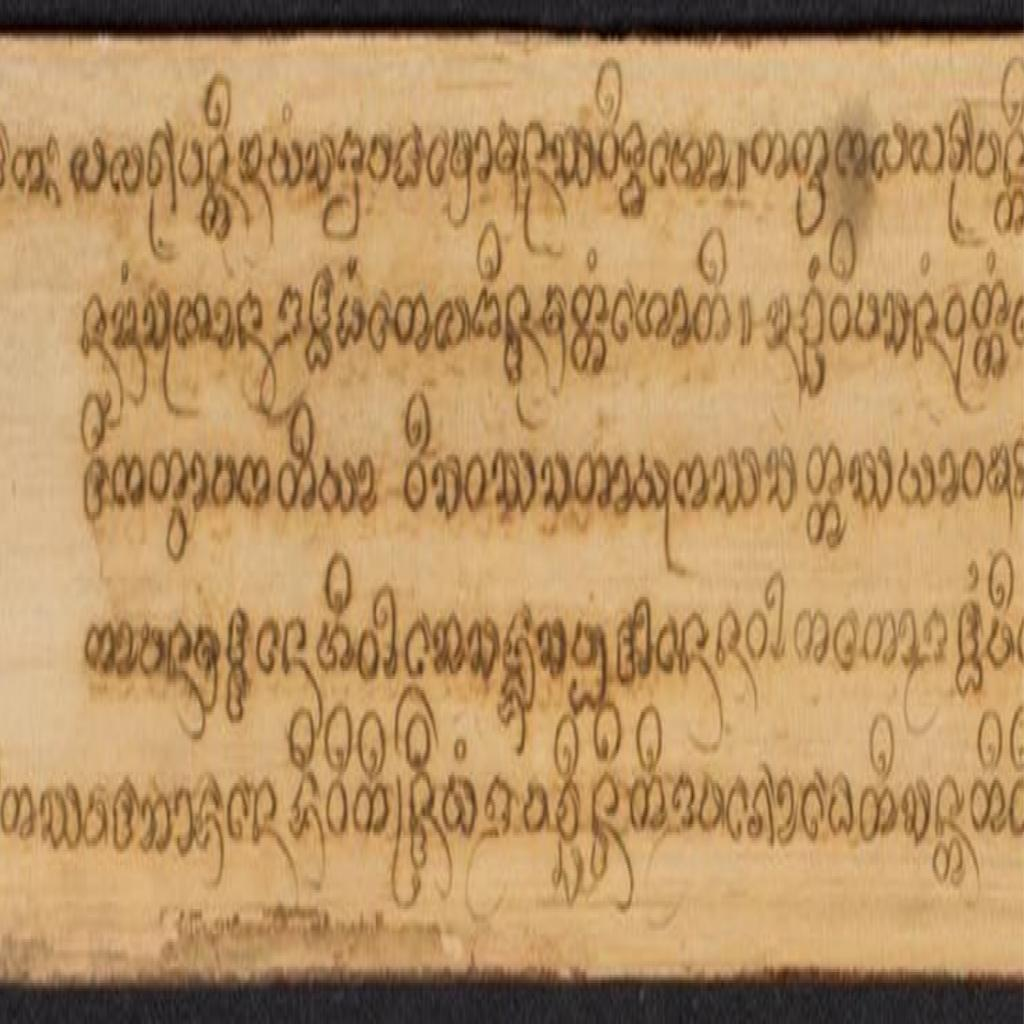LN035: (828, 289, 853, 351)
